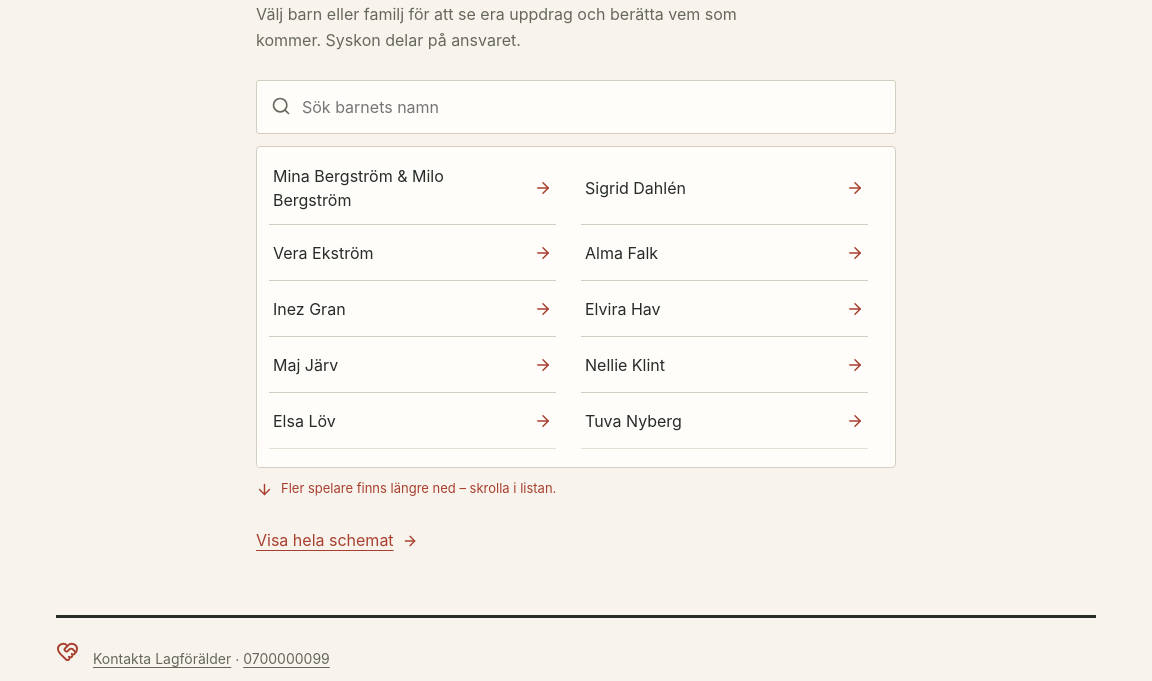
it: lets a parent choose one administrator without selecting a child or signing in
The width and height of the screenshot is (1152, 681).
(page scrolled)
Click the button "Kontakta Lagförälder".
click(162, 659)  # box [93, 637, 231, 680]
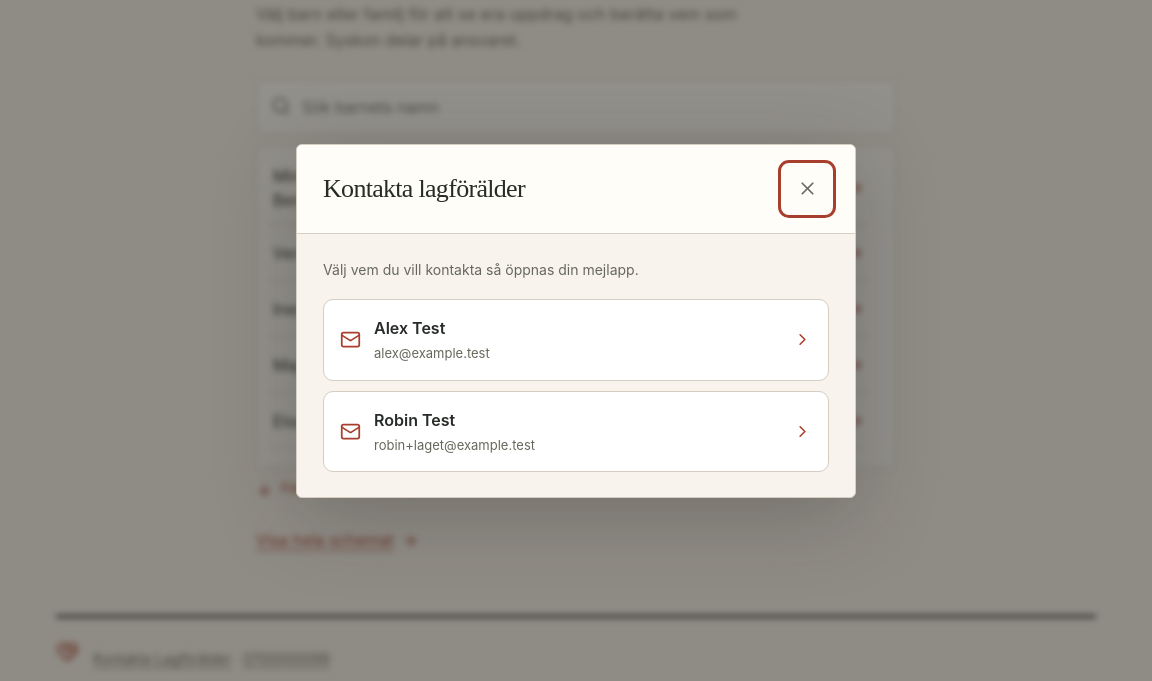
Result: the text "Alex Test" is shown at [374, 318, 445, 338]
Result: the text "Robin Test" is shown at [374, 410, 455, 430]
Press Escape
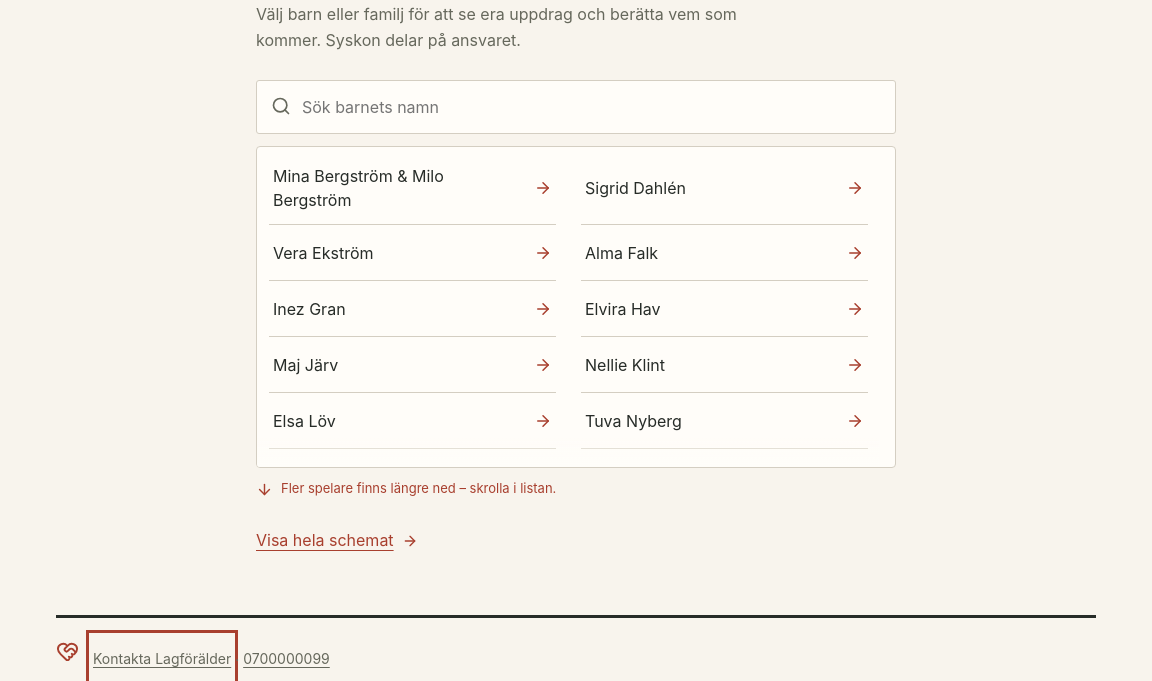
Result: the dialog is gone
